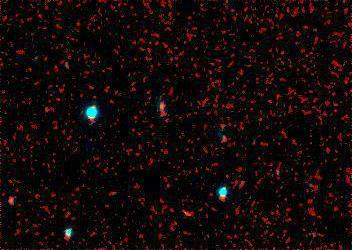star: (171, 197, 201, 227)
